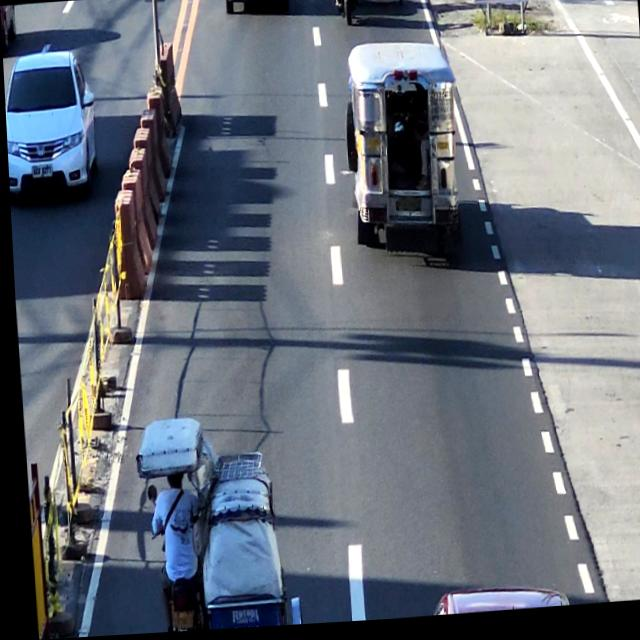Car: (416, 584, 566, 620)
Jeep: (341, 36, 461, 261)
License-Plate: (162, 607, 188, 631)
Tricycle: (123, 413, 300, 635)
